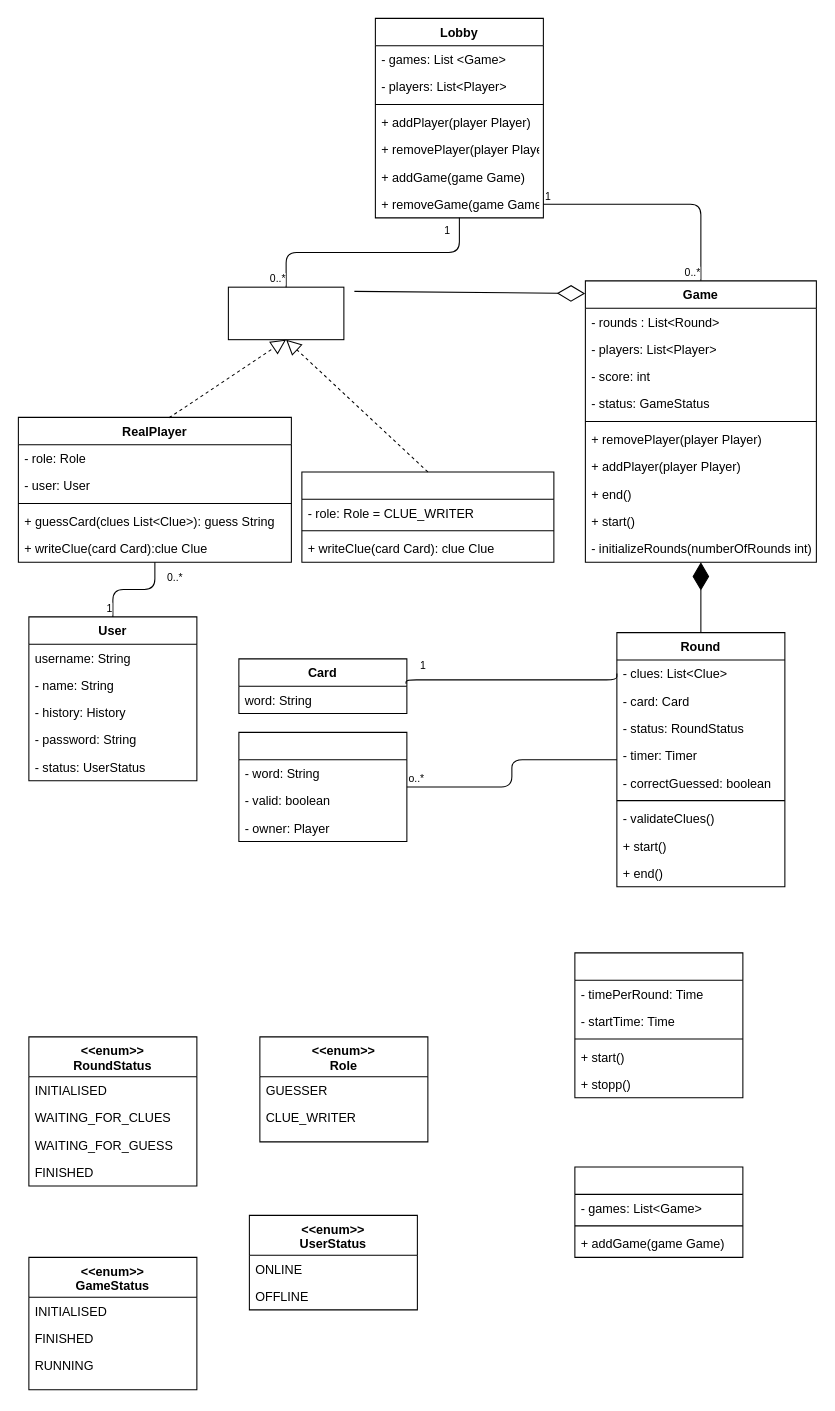
This 835x1411 diagram has some shape labels left out. The shapes that lost their labels are listed below. From the top down, each one's box as (x1, y1, x2, y2) in pixels, then its label:
(227, 286, 344, 340): «interface» Player
(301, 471, 554, 562): AIPlayer
(238, 731, 407, 842): Clue
(574, 952, 743, 1098): Timer
(574, 1166, 743, 1257): History
